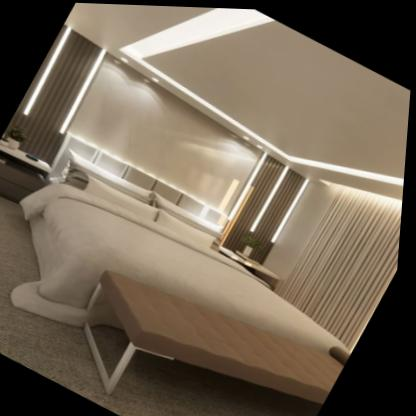Bed: (15, 139, 351, 351)
Curtains: (279, 184, 405, 347)
Gypsum Board: (49, 2, 416, 217)
Wall Panel: (1, 28, 318, 271)
